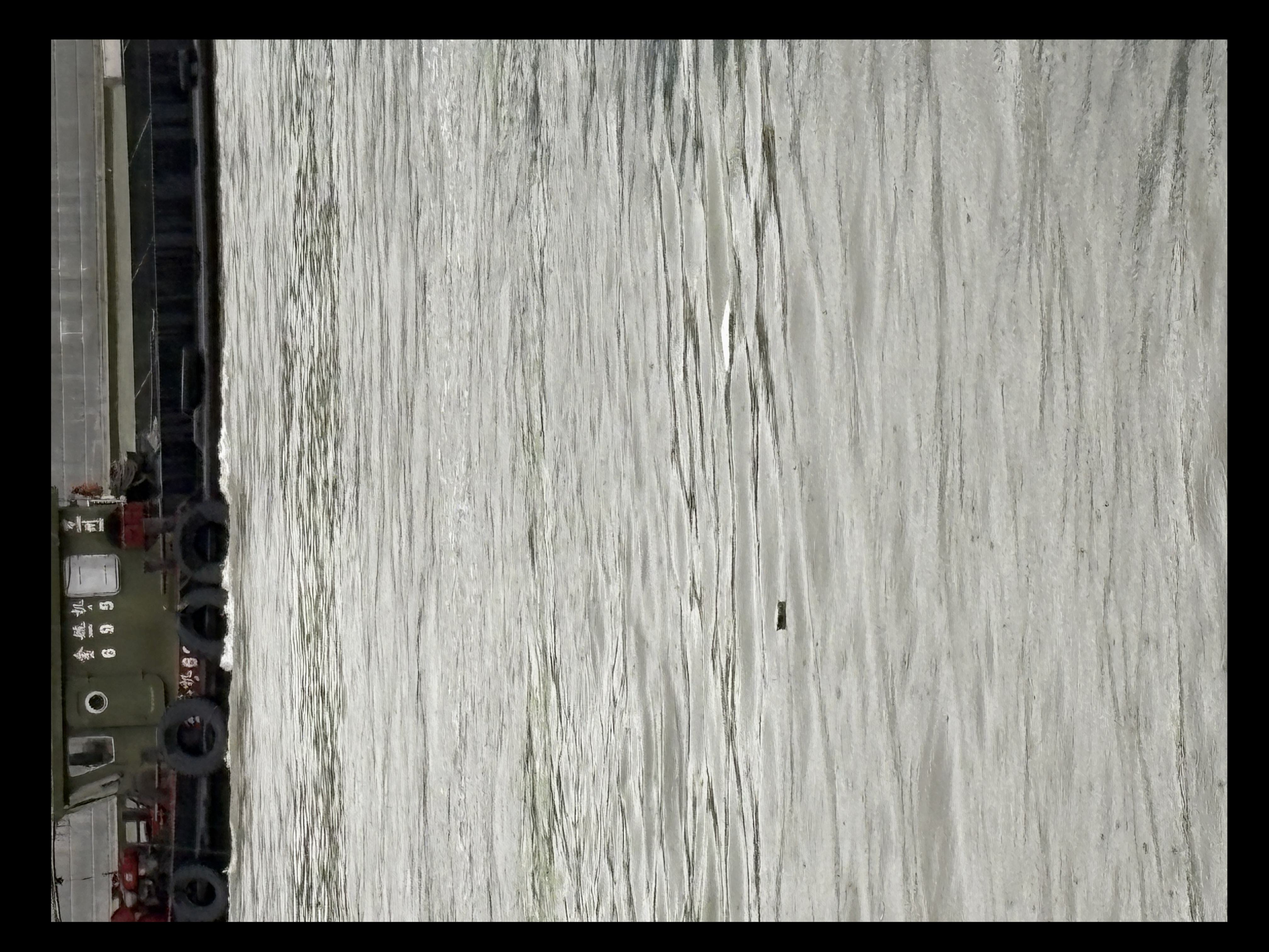Plastic wastes: (732, 292, 742, 361), (791, 587, 805, 622)
